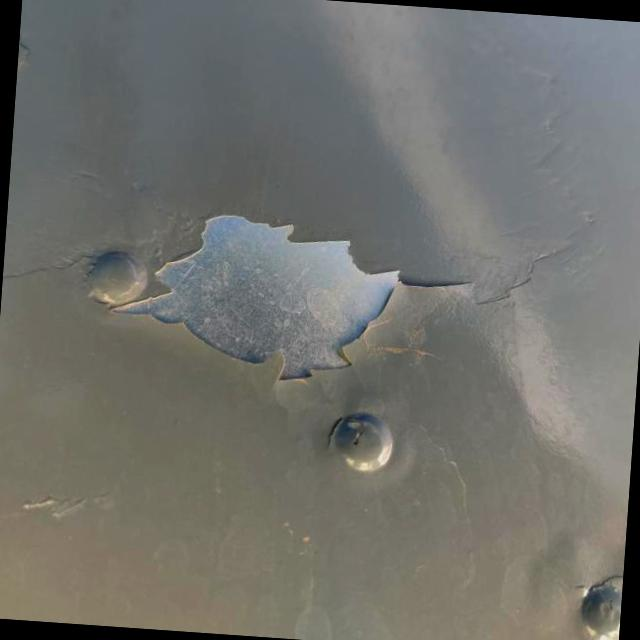paint-off: (85, 182, 504, 419)
